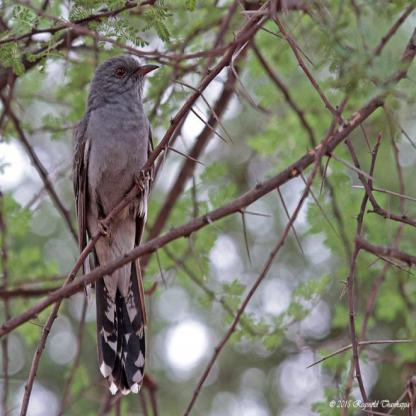Burung: (72, 54, 159, 394)
